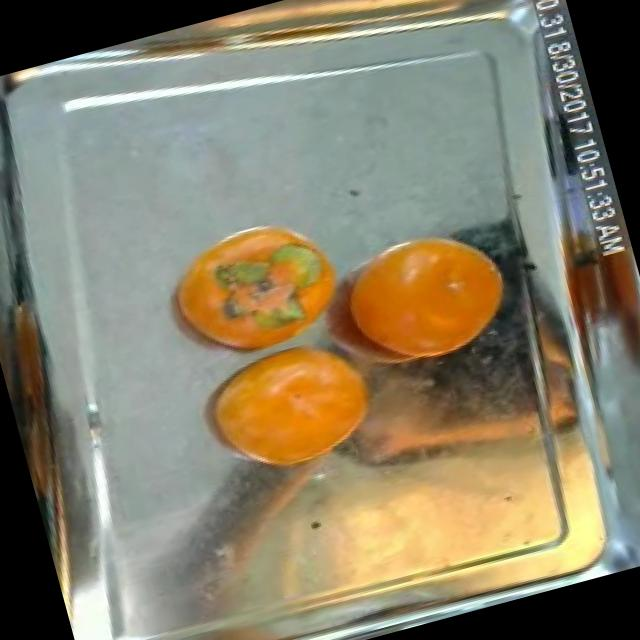Fruit: (314, 199, 540, 394), (173, 315, 405, 497), (143, 195, 368, 376)
